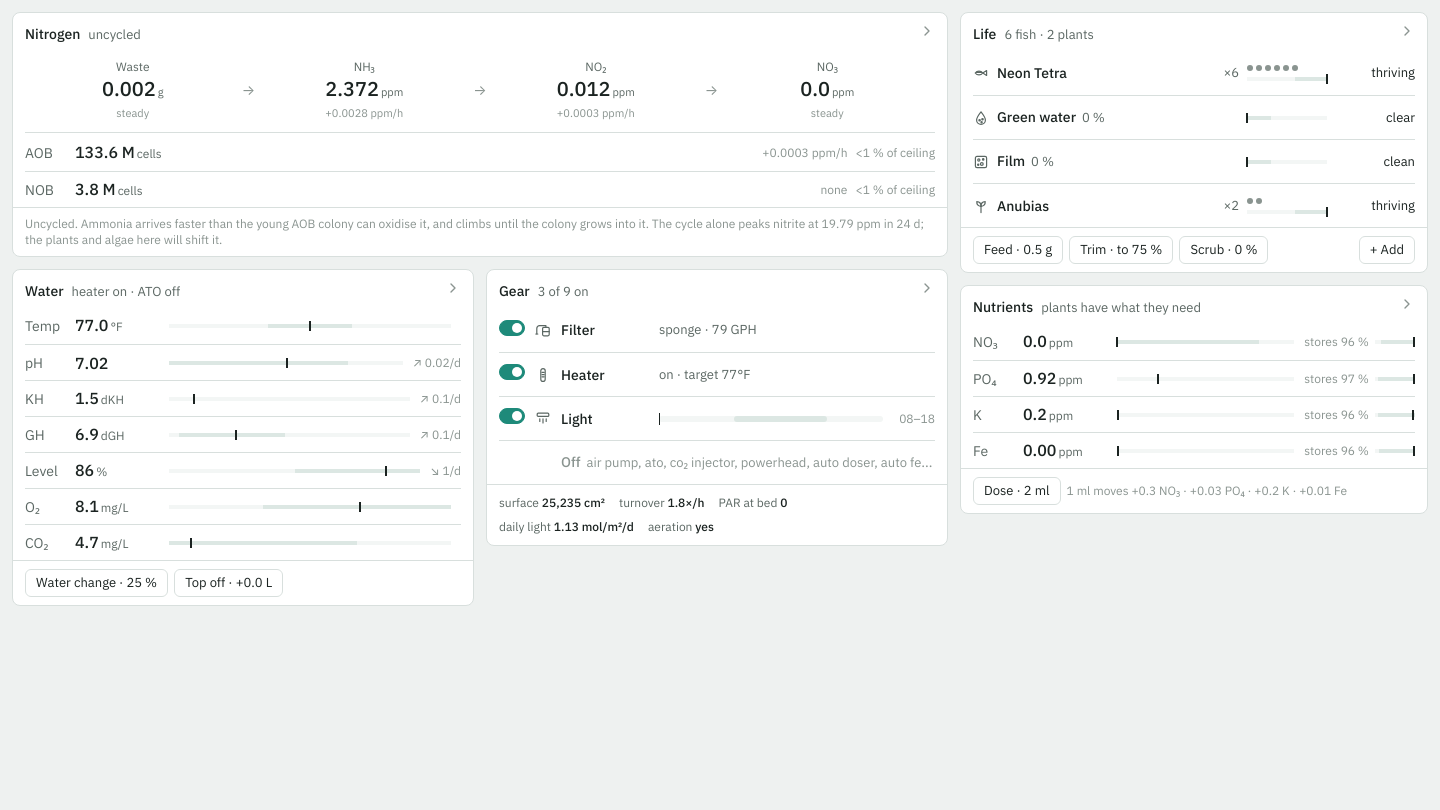
Test: OverviewSection › draws no chart for a reading the buffer never recorded
Click the button "Waste 0.002g steady" at (133,90), box [25,55,240,124]
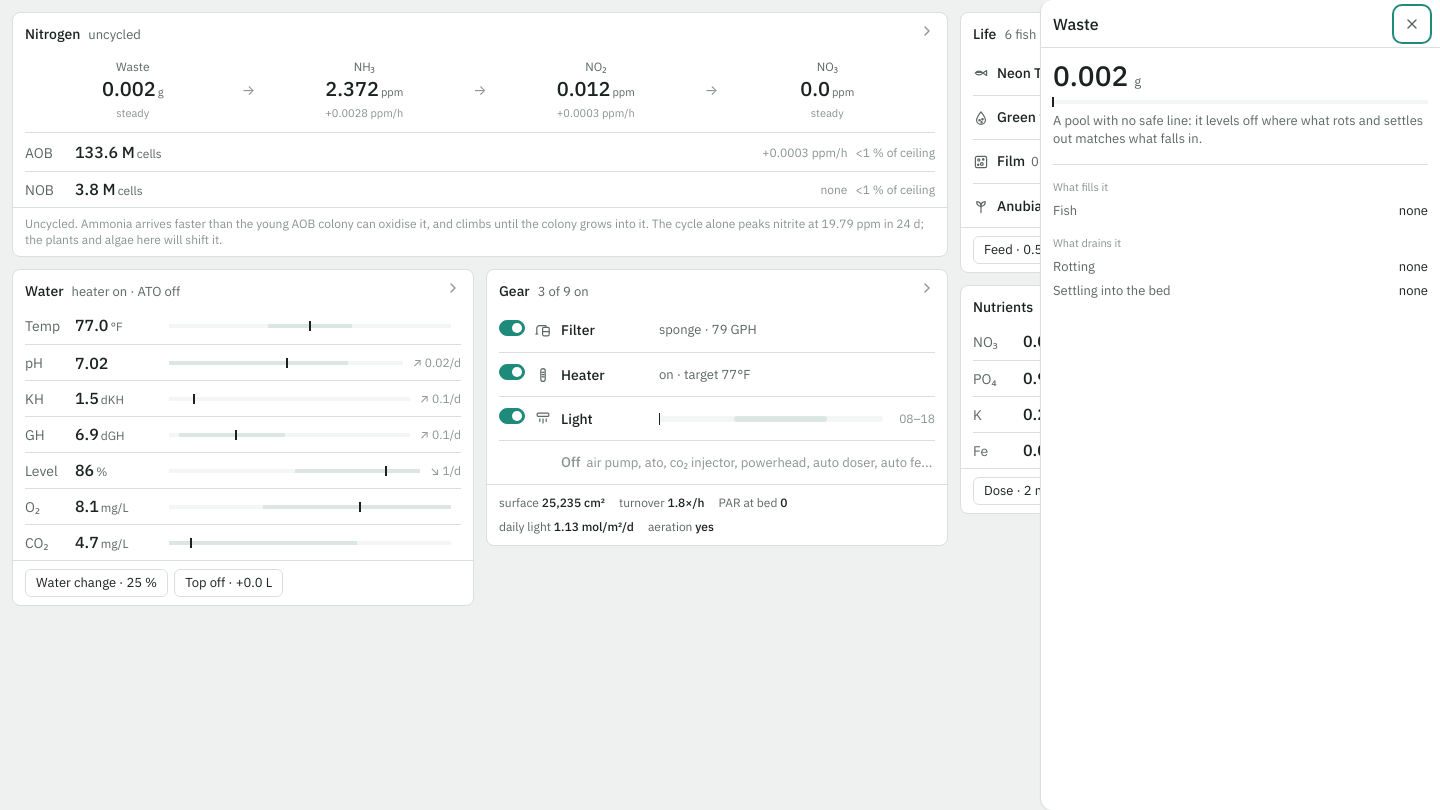
Now the text "A pool with no safe line" is shown, box [1053,112,1423,147]
Now the heading "What fills it" is shown, box [1053,180,1108,194]
Click the button named "Close Waste" at (1412,24), box [1396,8,1428,40]
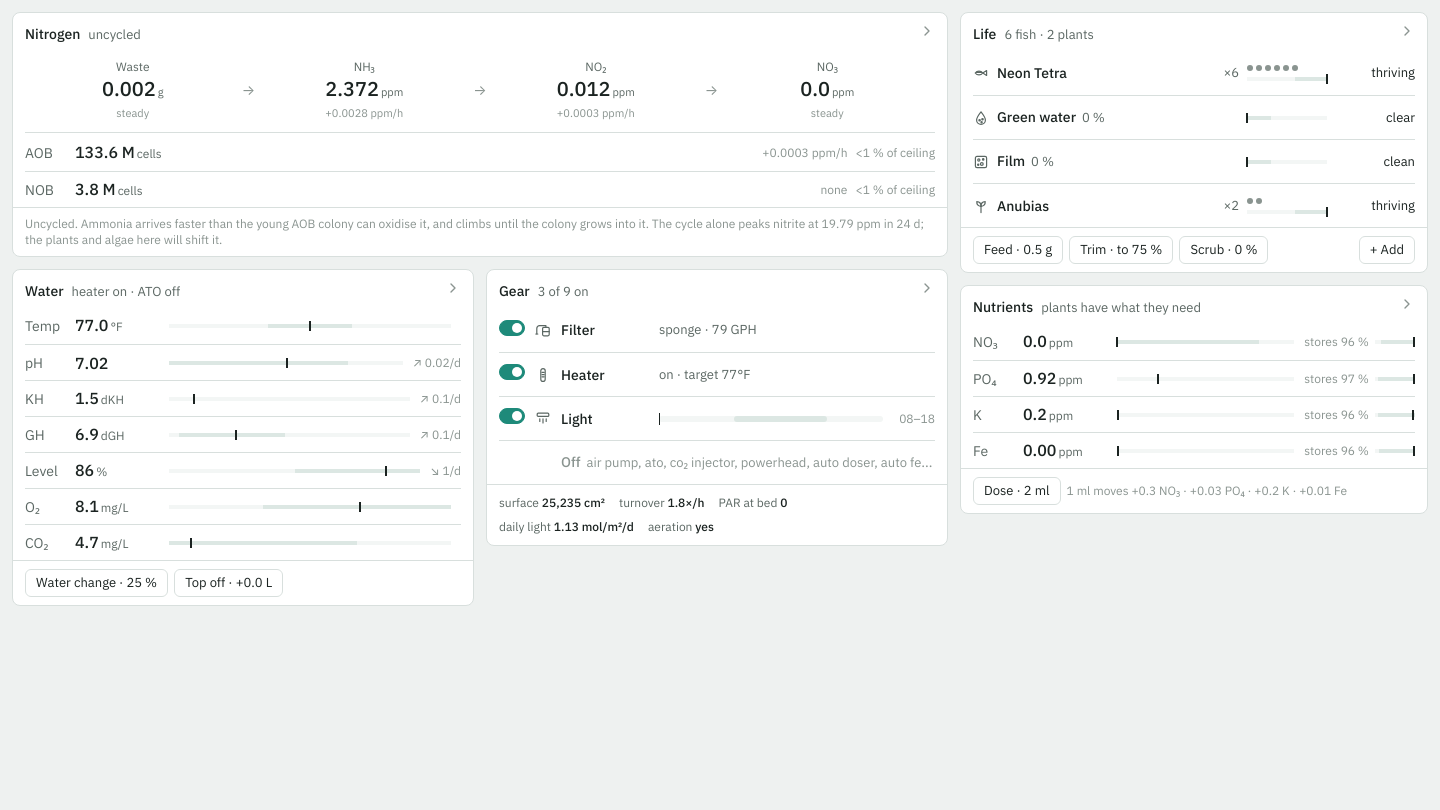
Click the button "NO₂ 0.012ppm +0.0003 ppm/h" at (596,90), box [488,55,704,124]
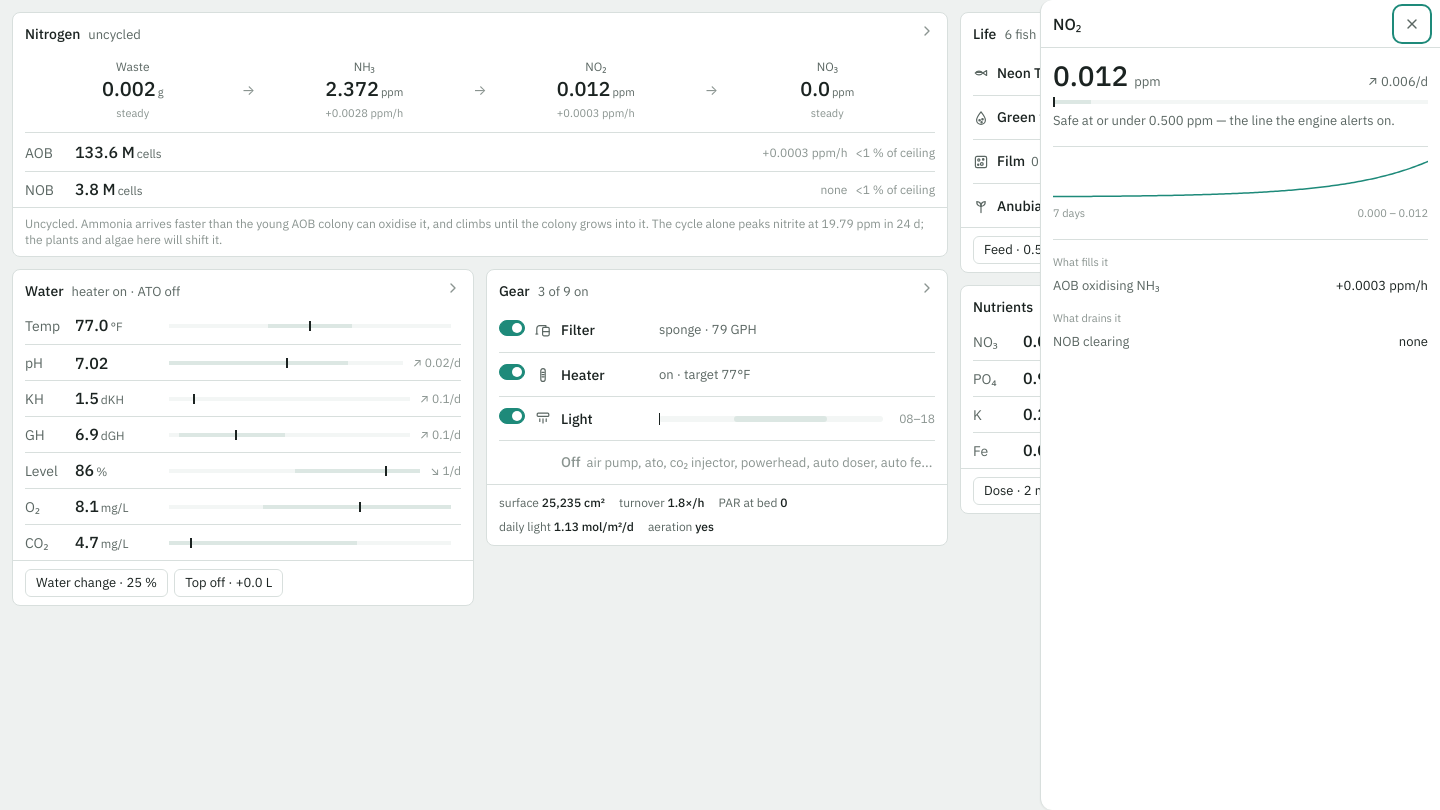
Now the text "7 days" is shown, box [1053,203,1085,223]
